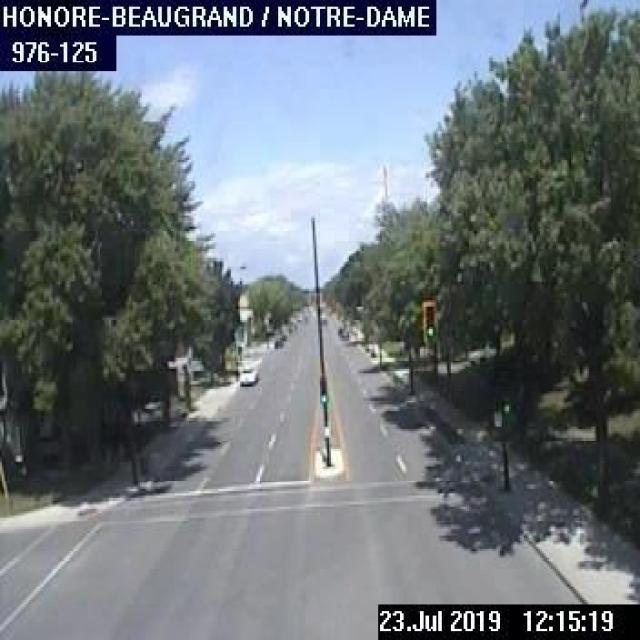vehicle: (238, 364, 256, 385), (335, 325, 348, 337)
